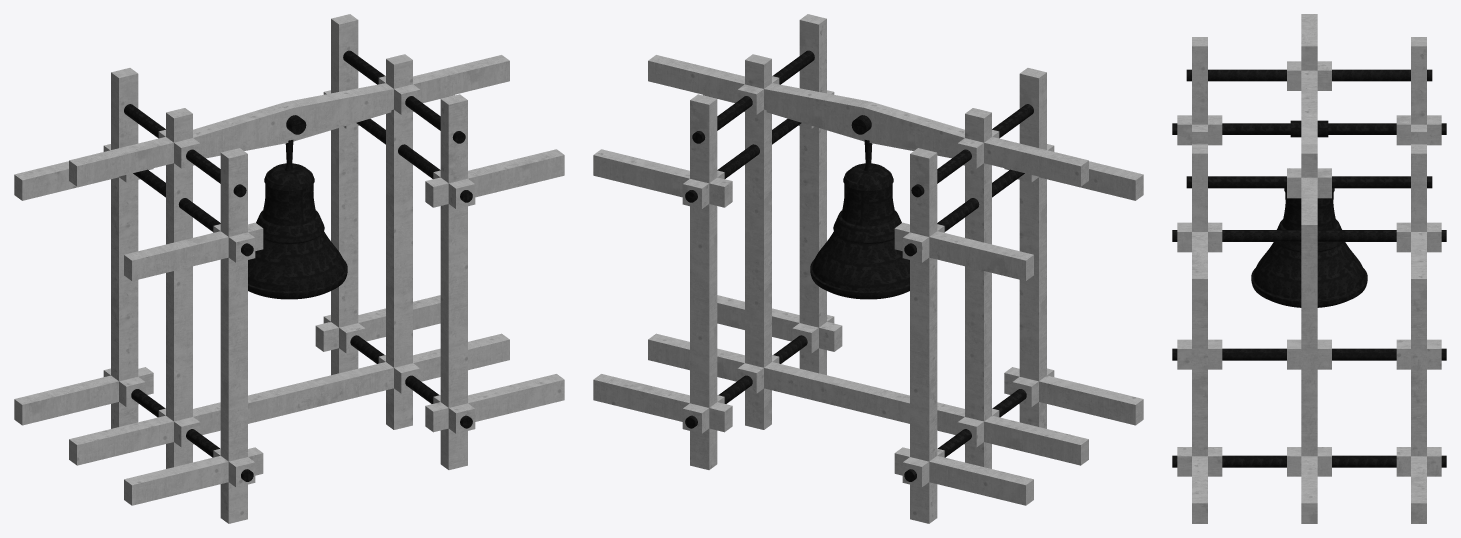
File: objBell.obj
3 views of the same model, side by side, from view 1: azimuth 30°, elevation 25°; view 2: azimuth 150°, elevation 25°; view 3: azimuth 270°, elevation 25° (orthographic).
Visible parts, largest first — view 1: wood_bell bell, bell bell, bell detail; view 2: wood_bell bell, bell bell, bell detail; view 3: wood_bell bell, bell detail, bell bell, bell detail1.
Boxes of the visible parts, bbox=[...] form: wood_bell bell: bbox=[14, 14, 564, 523]; bell bell: bbox=[248, 140, 347, 299]; bell detail: bbox=[124, 50, 472, 481]; wood_bell bell: bbox=[593, 14, 1143, 523]; bell bell: bbox=[810, 140, 909, 299]; bell detail: bbox=[685, 50, 1033, 481]; wood_bell bell: bbox=[1177, 14, 1441, 523]; bell detail: bbox=[1172, 69, 1446, 467]; bell bell: bbox=[1251, 188, 1367, 307]; bell detail1: bbox=[1290, 120, 1328, 137].
Bounding box in the file's own units: 10.68 × 8.62 × 5.87.
Materials: 2 (2 with a texture image).
